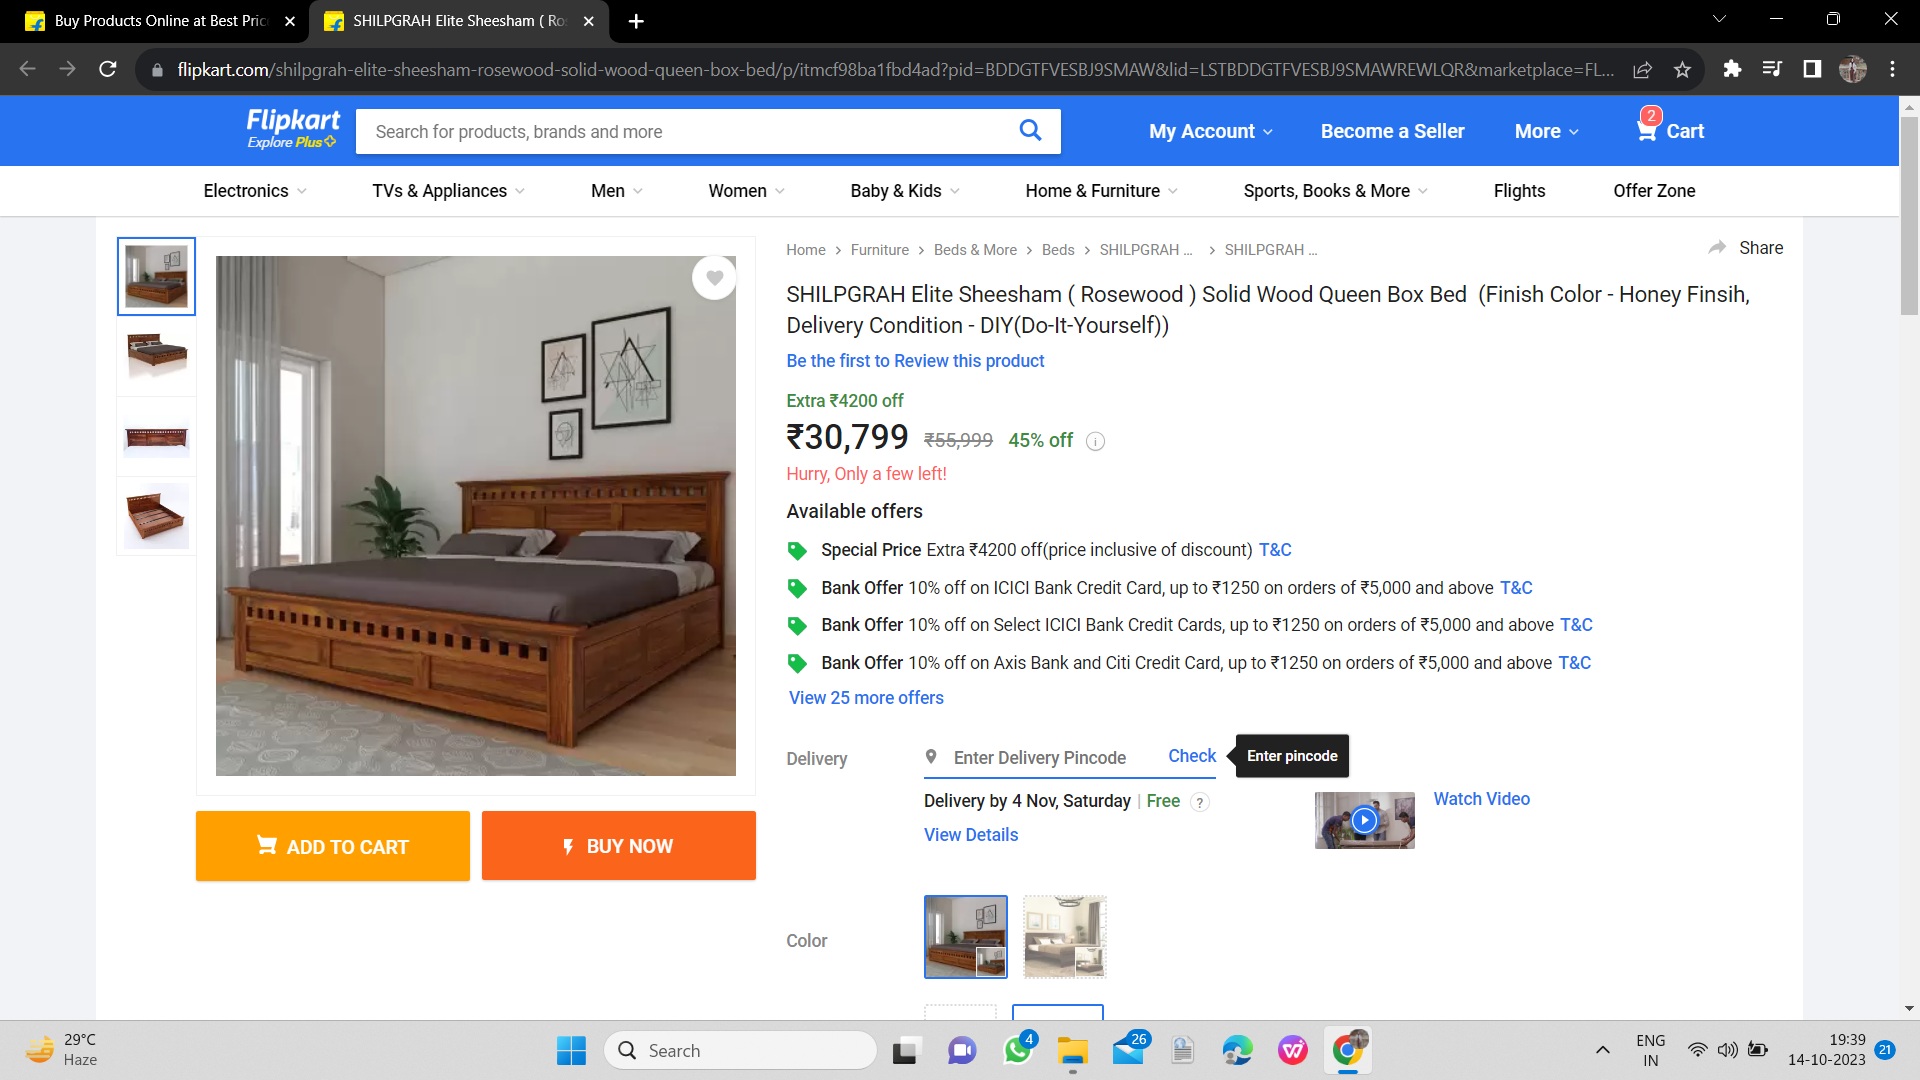Image: (216, 255, 748, 778), (901, 882, 1117, 989)
Paragraph: (771, 531, 1610, 709), (779, 269, 1760, 342), (186, 793, 766, 893), (1130, 103, 1731, 156), (897, 728, 1378, 778), (775, 382, 1076, 455), (773, 348, 1065, 368), (916, 789, 1137, 814), (778, 458, 968, 487), (775, 497, 931, 527), (783, 741, 862, 773), (782, 923, 828, 951)
